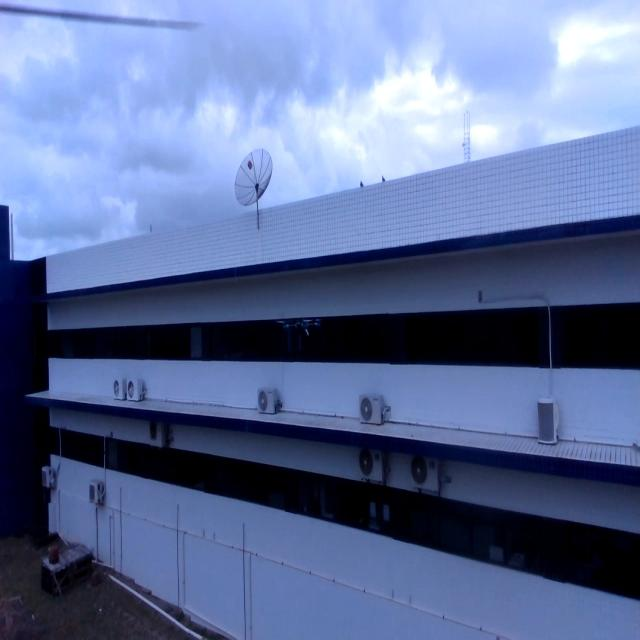-uav-: (274, 307, 329, 369)
